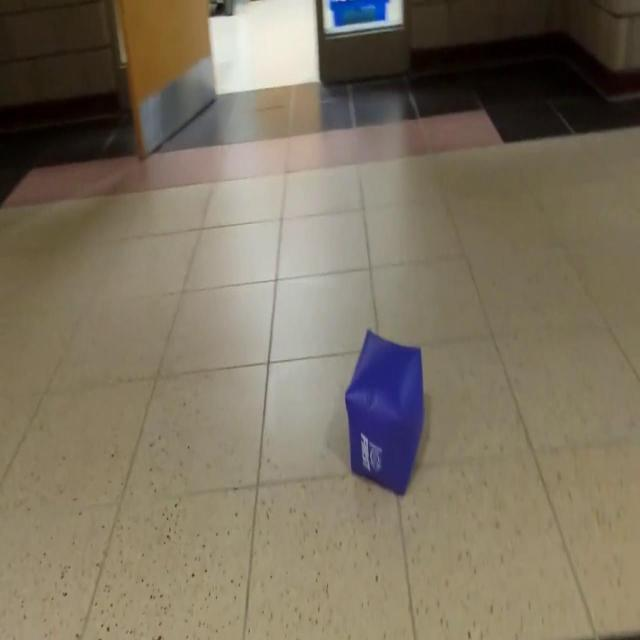frc_cube: (343, 329, 423, 495)
